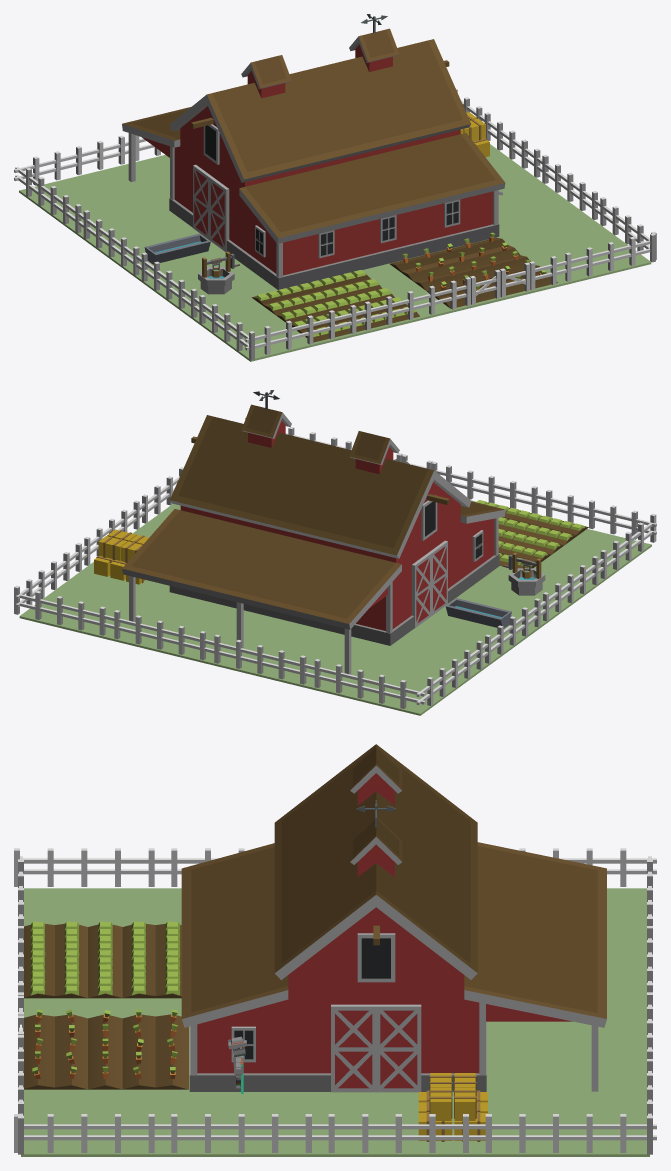
The model's file is farm.glb.
The picture shows the model from 3 angles, top to bottom: view 1: azimuth 30°, elevation 25°; view 2: azimuth 150°, elevation 25°; view 3: azimuth 270°, elevation 25°; orthographic projection. The views are drawn at different scales.
Visible parts, largest first — view 1: Barn, Ground, Crop_Cabbage, Crop_Carrot, FenceGate, Fence_F0, Fence_F1, Fence_B0, Fence_F3, Fence_L3, Fence_L0, Fence_L2 (+7 smaller); view 2: Barn, Ground, Crop_Cabbage, HayStack, Fence_B0, Fence_B1, Fence_B2, Fence_F0, Fence_B3, Fence_F1, Fence_L3, Fence_L1 (+7 smaller); view 3: Barn, Ground, Crop_Carrot, Crop_Cabbage, HayStack, Fence_R3, Fence_R1, Fence_R2, Fence_L0, Fence_R0, Fence_L3, ScareCrow.
Boxes of the visible parts, x1=… form: Barn: x1=122, y1=14, x2=505, y2=289; Ground: x1=19, y1=144, x2=651, y2=361; Crop_Cabbage: x1=251, y1=270, x2=419, y2=342; Crop_Carrot: x1=389, y1=232, x2=557, y2=308; FenceGate: x1=447, y1=256, x2=556, y2=305; Fence_F0: x1=245, y1=305, x2=356, y2=354; Fence_F1: x1=346, y1=280, x2=456, y2=330; Fence_B0: x1=14, y1=135, x2=124, y2=185; Fence_F3: x1=546, y1=231, x2=656, y2=281; Fence_L3: x1=15, y1=167, x2=81, y2=233; Fence_L0: x1=189, y1=294, x2=254, y2=360; Fence_L2: x1=74, y1=210, x2=139, y2=275; Barn: x1=122, y1=390, x2=505, y2=674; Ground: x1=19, y1=500, x2=651, y2=715; Crop_Cabbage: x1=476, y1=500, x2=588, y2=568; HayStack: x1=94, y1=529, x2=148, y2=584; Fence_B0: x1=314, y1=659, x2=425, y2=708; Fence_B1: x1=214, y1=634, x2=314, y2=684; Fence_B2: x1=114, y1=610, x2=214, y2=660; Fence_F0: x1=546, y1=489, x2=656, y2=539; Fence_B3: x1=14, y1=585, x2=114, y2=635; Fence_F1: x1=446, y1=465, x2=555, y2=513; Fence_L3: x1=416, y1=640, x2=482, y2=705; Fence_L1: x1=532, y1=556, x2=598, y2=621; Barn: x1=181, y1=744, x2=606, y2=1092; Ground: x1=21, y1=888, x2=649, y2=1156; Crop_Carrot: x1=24, y1=1009, x2=188, y2=1089; Crop_Cabbage: x1=24, y1=921, x2=181, y2=998; HayStack: x1=418, y1=1073, x2=487, y2=1141; Fence_R3: x1=485, y1=1114, x2=656, y2=1152; Fence_R1: x1=171, y1=1114, x2=342, y2=1152; Fence_R2: x1=328, y1=1114, x2=499, y2=1152; Fence_L0: x1=14, y1=848, x2=185, y2=886; Fence_R0: x1=14, y1=1114, x2=185, y2=1152; Fence_L3: x1=519, y1=848, x2=656, y2=886; ScareCrow: x1=228, y1=1036, x2=247, y2=1093.
Size of the model in its own units: 32.71 by 14.3 by 32.71.
3 materials, 2 textured.
